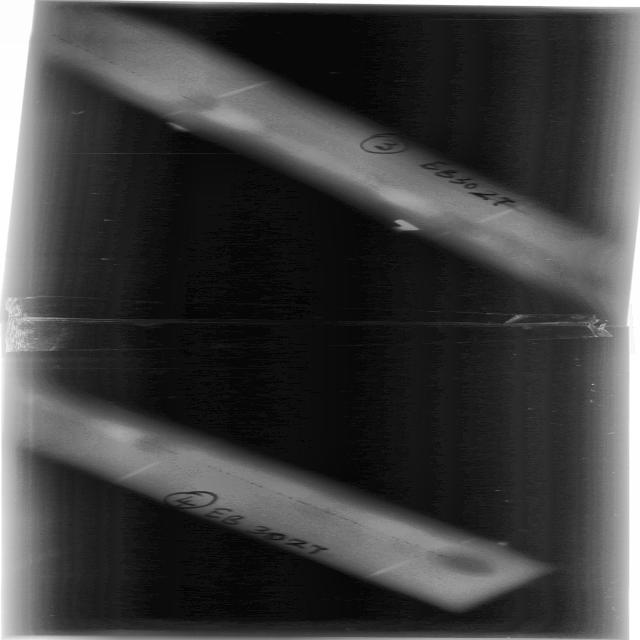porosity: (205, 107, 218, 111), (106, 60, 116, 64), (144, 79, 156, 82), (179, 95, 187, 99), (222, 473, 230, 477), (273, 491, 283, 494), (284, 497, 294, 500), (327, 512, 334, 516), (341, 518, 350, 521), (388, 536, 397, 539), (435, 554, 443, 557), (258, 485, 264, 488), (356, 523, 362, 526), (129, 71, 136, 73), (74, 45, 80, 47), (238, 479, 244, 481), (312, 506, 316, 509), (249, 483, 256, 484)
